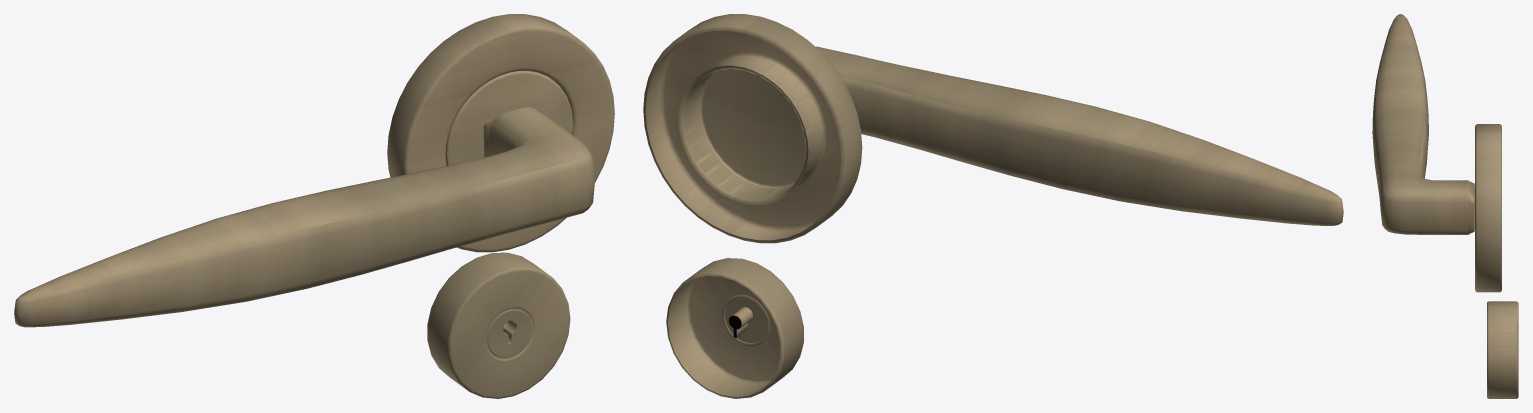
Rendered from aws_Handle_01_visual.DAE.
The picture shows the model from 3 angles, left to right: view 1: azimuth 30°, elevation 25°; view 2: azimuth 150°, elevation 25°; view 3: azimuth 270°, elevation 25°; orthographic projection. The views are drawn at different scales.
Visible parts, largest first — view 1: aws_Handle_01_visual; view 2: aws_Handle_01_visual; view 3: aws_Handle_01_visual.
Part boxes in pixels (x1,y1,x2,y2): aws_Handle_01_visual: (14, 14, 614, 398); aws_Handle_01_visual: (643, 14, 1343, 398); aws_Handle_01_visual: (1372, 14, 1518, 398).
Bounding box in the file's own units: 0.1722 × 0.0481 × 0.0944.
1 material, 1 textured.
